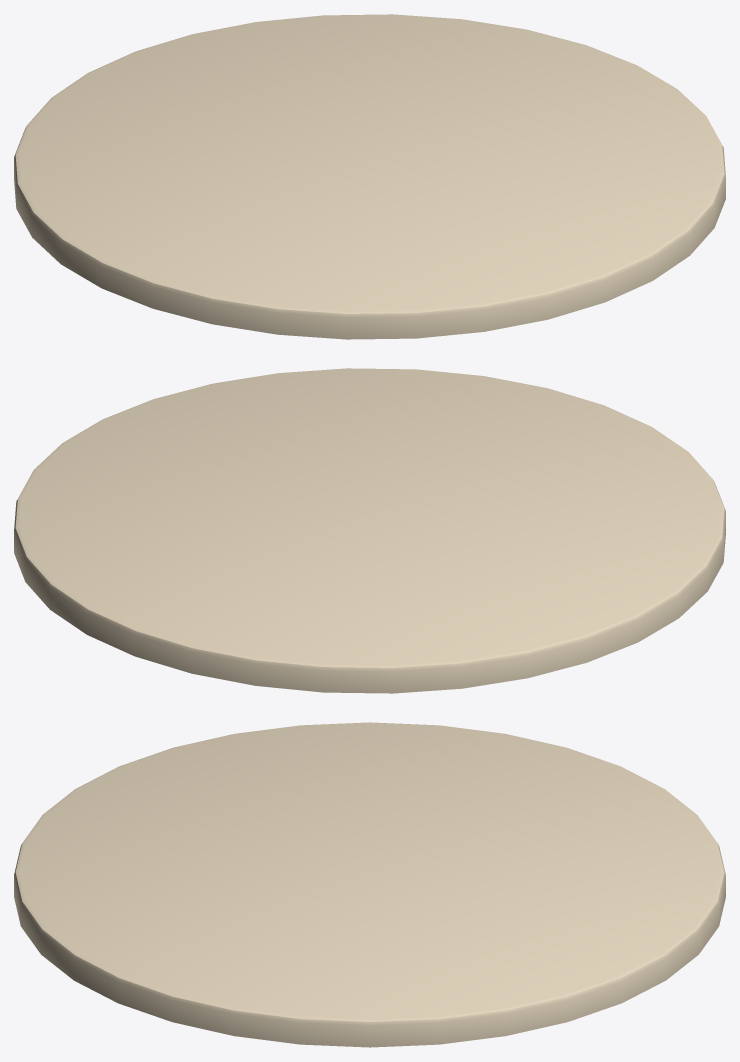
File: Monument_Base.fbx
3 views of the same model, one above another, from view 1: azimuth 30°, elevation 25°; view 2: azimuth 150°, elevation 25°; view 3: azimuth 270°, elevation 25° (orthographic).
Parts seen in each view (by area): view 1: Monument_Base; view 2: Monument_Base; view 3: Monument_Base.
Boxes of the visible parts, x1,y1,x2,y2 form: Monument_Base: (14, 14, 725, 339); Monument_Base: (14, 368, 725, 693); Monument_Base: (14, 722, 725, 1047).
Bounding box in the file's own units: 1165 × 1165 × 47.
